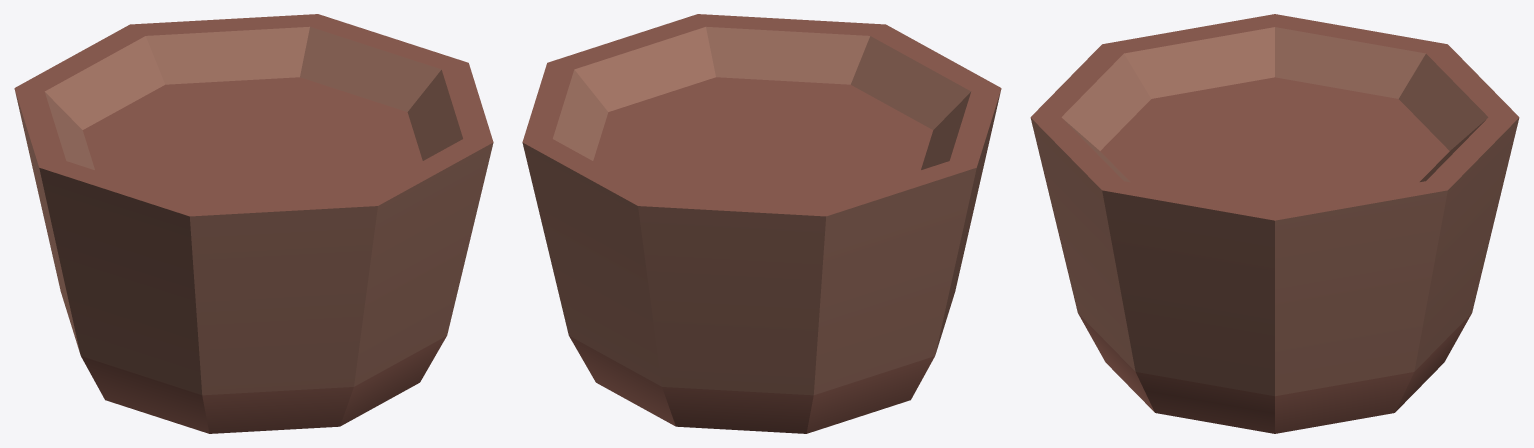
Rendered from pot.fbx.
3 renders of one model, left to right at view 1: azimuth 30°, elevation 25°; view 2: azimuth 150°, elevation 25°; view 3: azimuth 270°, elevation 25°, orthographic.
Parts seen in each view (by area): view 1: insence_holder; view 2: insence_holder; view 3: insence_holder.
Part boxes in pixels (<box>): insence_holder: <box>14,14,493,433</box>; insence_holder: <box>522,14,1001,433</box>; insence_holder: <box>1030,14,1519,433</box>.
Bounding box in the file's own units: 1.19 × 0.6552 × 1.19.
